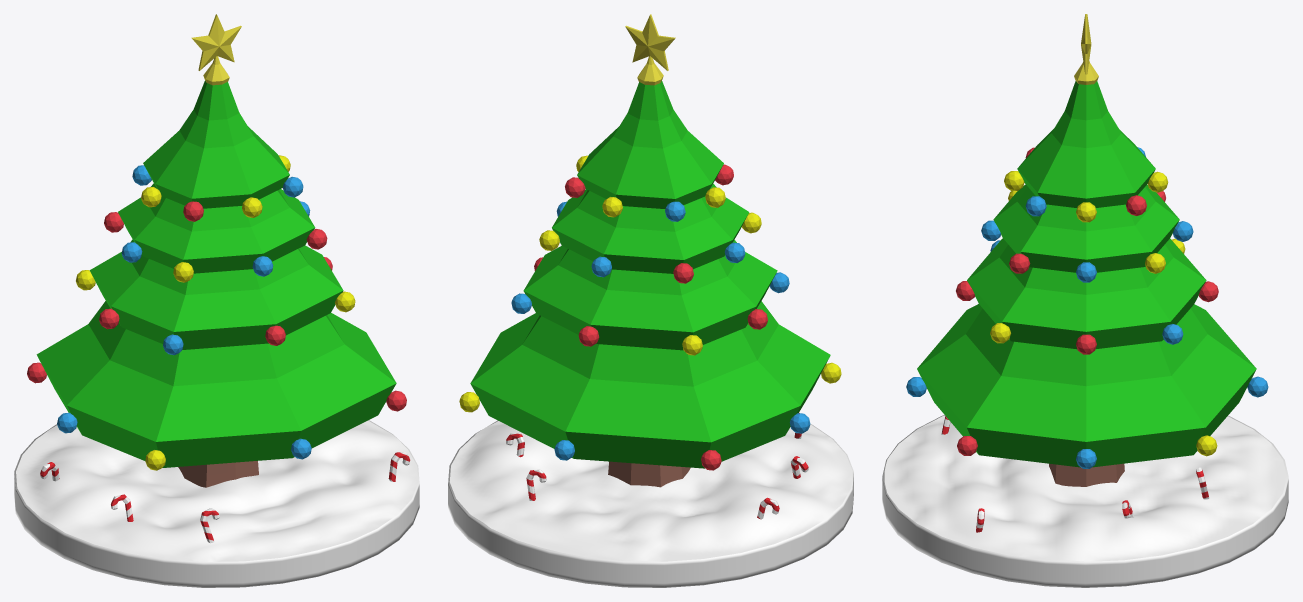
3 renders of one model, left to right at view 1: azimuth 30°, elevation 25°; view 2: azimuth 150°, elevation 25°; view 3: azimuth 270°, elevation 25°, orthographic.
Visible parts, largest first — view 1: Christmas tree IceAliensForge.001, Ground.001, Stick.001; view 2: Christmas tree IceAliensForge.001, Ground.001, Stick.002; view 3: Christmas tree IceAliensForge.001, Ground.001.
Part boxes in pixels (left/top/right/bottom): Christmas tree IceAliensForge.001: left=27, top=14, right=406, bottom=487; Ground.001: left=14, top=420, right=419, bottom=587; Stick.001: left=111, top=452, right=410, bottom=543; Christmas tree IceAliensForge.001: left=459, top=14, right=841, bottom=487; Ground.001: left=448, top=420, right=853, bottom=587; Stick.002: left=506, top=432, right=779, bottom=519; Christmas tree IceAliensForge.001: left=906, top=14, right=1268, bottom=486; Ground.001: left=882, top=415, right=1288, bottom=587.
Size of the model in its own units: 5.96 by 7.89 by 5.96.
Materials: 4 (4 with a texture image).
